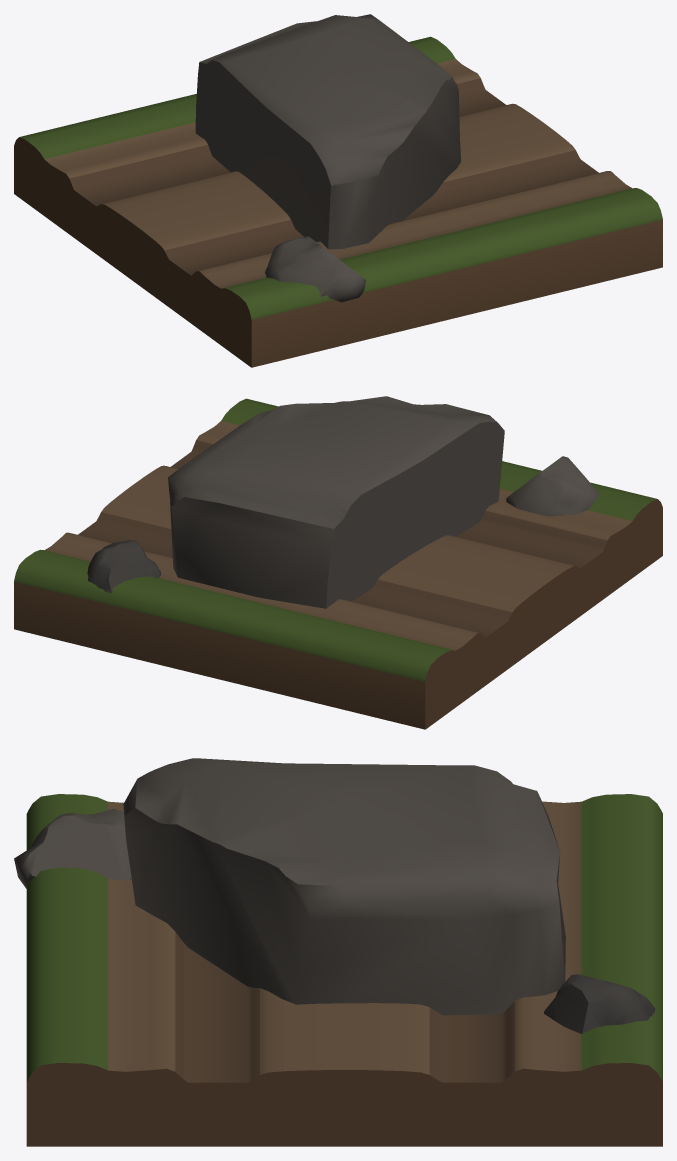
3 renders of one model, top to bottom at view 1: azimuth 30°, elevation 25°; view 2: azimuth 150°, elevation 25°; view 3: azimuth 270°, elevation 25°, orthographic. The views are drawn at different scales.
Parts seen in each view (by area): view 1: rk3o; view 2: rk3o; view 3: rk3o.
Part boxes in pixels (bbox=[...]): rk3o: bbox=[14, 14, 662, 367]; rk3o: bbox=[14, 396, 662, 729]; rk3o: bbox=[14, 758, 662, 1146].
Size of the model in its own units: 9 by 3.33 by 9.18.
